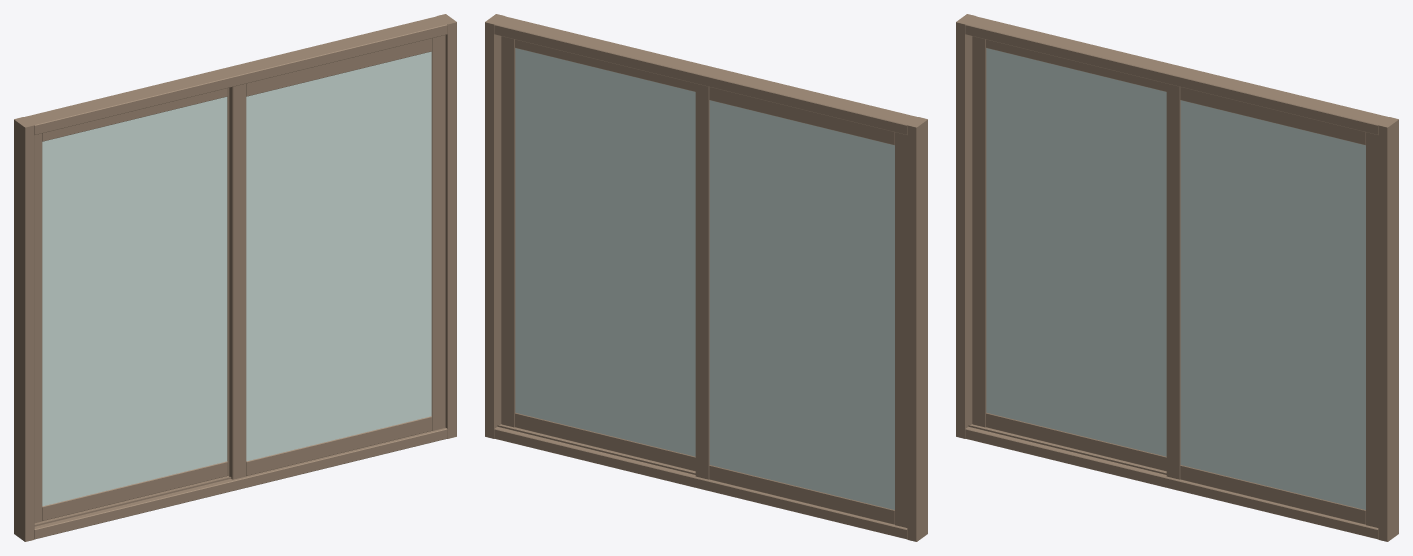
The model's file is co-S110P-2-quartz-1019.glb.
3 renders of one model, left to right at view 1: azimuth 30°, elevation 25°; view 2: azimuth 150°, elevation 25°; view 3: azimuth 330°, elevation 25°, orthographic.
Visible parts, largest first — view 1: verre, structure; view 2: verre, structure; view 3: verre, structure.
Part boxes in pixels (<box>): verre: <box>42,51,431,506</box>; structure: <box>14,14,456,541</box>; verre: <box>515,48,894,509</box>; structure: <box>485,14,927,541</box>; verre: <box>986,48,1365,509</box>; structure: <box>956,14,1398,541</box>.
Bounding box in the file's own units: 2.4 × 2.2 × 0.11.
